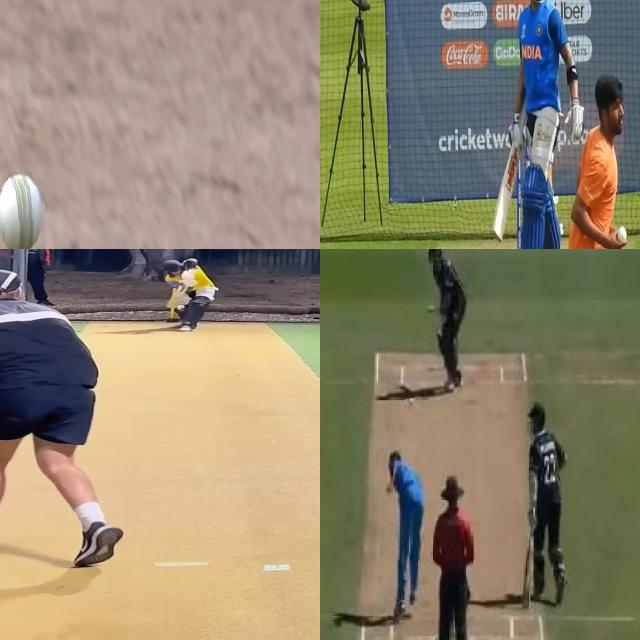Cricket ball: (0, 172, 44, 249), (616, 225, 628, 247), (405, 398, 416, 412), (176, 306, 186, 312)
